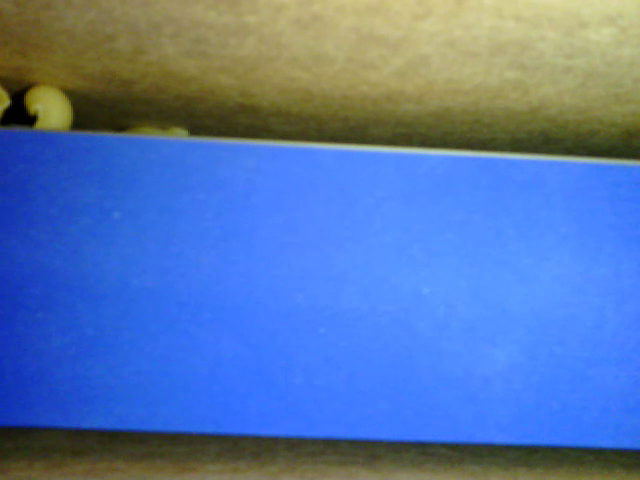shell: (21, 82, 74, 129)
